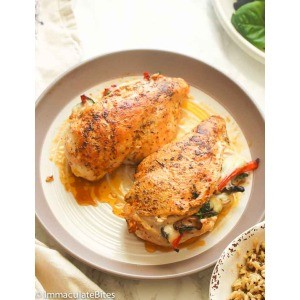chicken breast_brain food: (148, 131, 216, 242), (77, 89, 135, 165)
